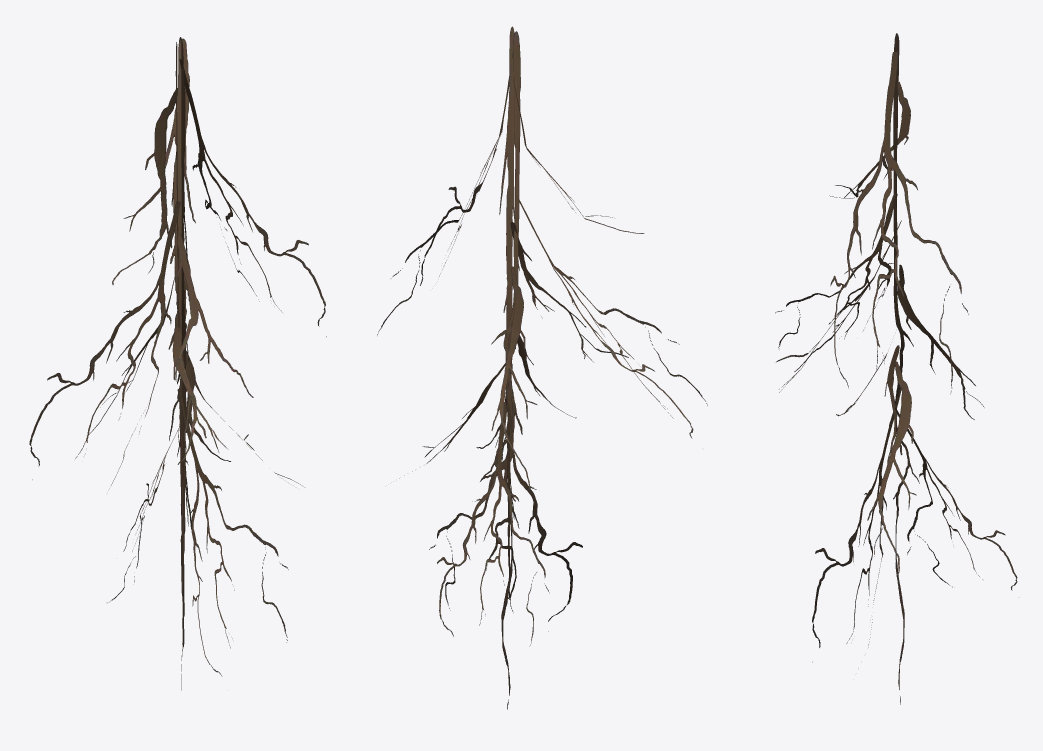
3 views of the same model, side by side, from view 1: azimuth 30°, elevation 25°; view 2: azimuth 150°, elevation 25°; view 3: azimuth 270°, elevation 25° (orthographic). The views are drawn at different scales.
Visible parts, largest first — view 1: body0_model0_lod0_mesh0; view 2: body0_model0_lod0_mesh0; view 3: body0_model0_lod0_mesh0.
Part boxes in pixels (x1,y1,x2,y2): body0_model0_lod0_mesh0: (29,37,326,690); body0_model0_lod0_mesh0: (377,26,707,709); body0_model0_lod0_mesh0: (775,33,1017,704).
Bounding box in the file's own units: 248 × 529 × 187.
Materials: 1 (1 with a texture image).
